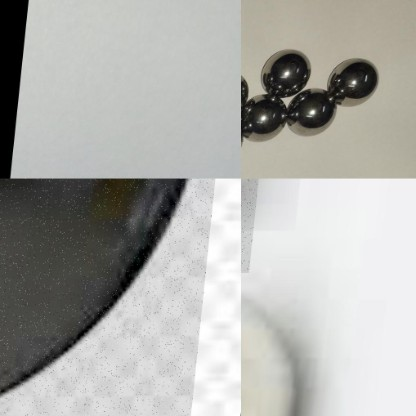ironball: (256, 46, 309, 98), (329, 53, 379, 104), (291, 85, 336, 140), (244, 97, 289, 144)
